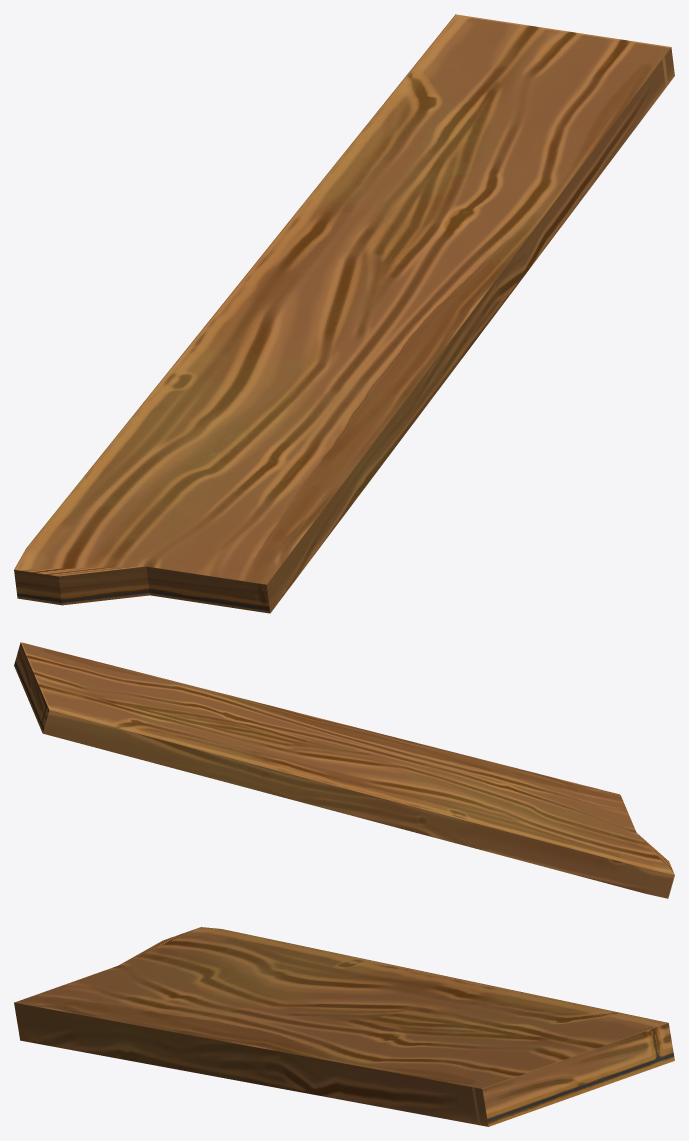
3 views of the same model, one above another, from view 1: azimuth 30°, elevation 25°; view 2: azimuth 150°, elevation 25°; view 3: azimuth 270°, elevation 25° (orthographic). The views are drawn at different scales.
Visible parts, largest first — view 1: Cube.644; view 2: Cube.644; view 3: Cube.644.
Part boxes in pixels (bbox=[...]): Cube.644: bbox=[14, 14, 674, 613]; Cube.644: bbox=[14, 642, 674, 898]; Cube.644: bbox=[14, 927, 674, 1126].
Bounding box in the file's own units: 326 × 104 × 221.
Materials: 1 (1 with a texture image).
